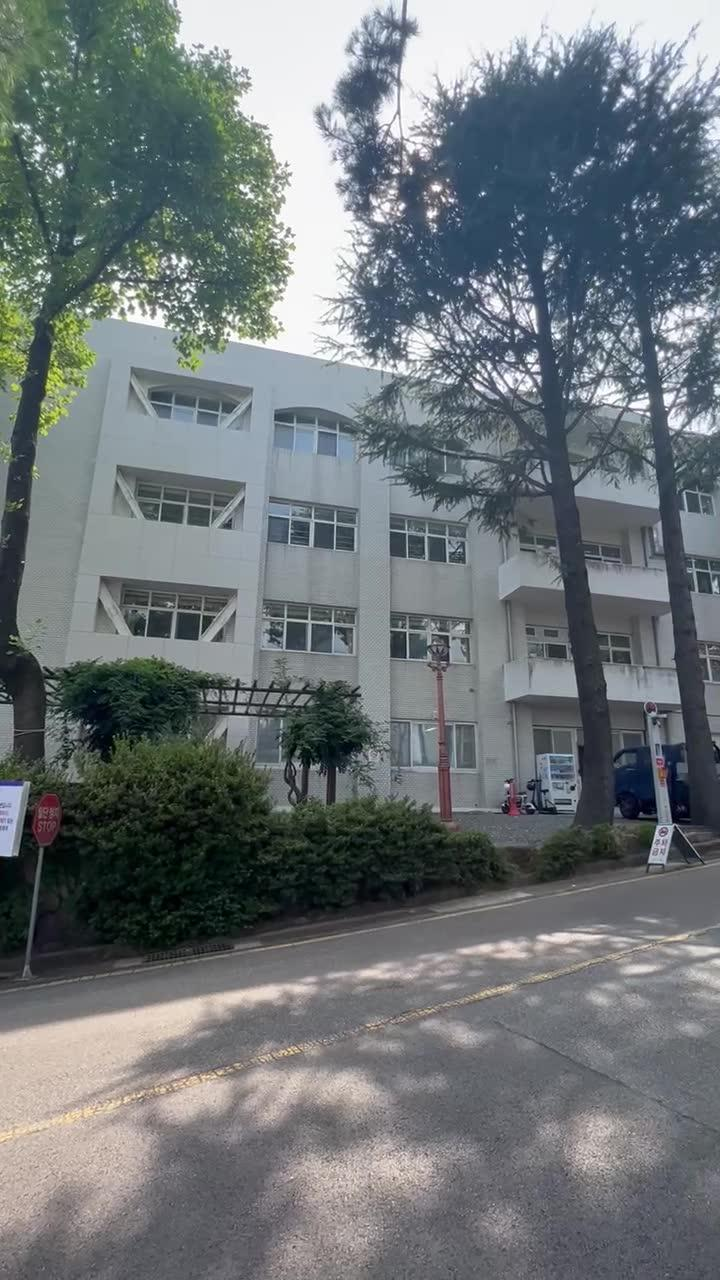building: (174, 458, 720, 826)
